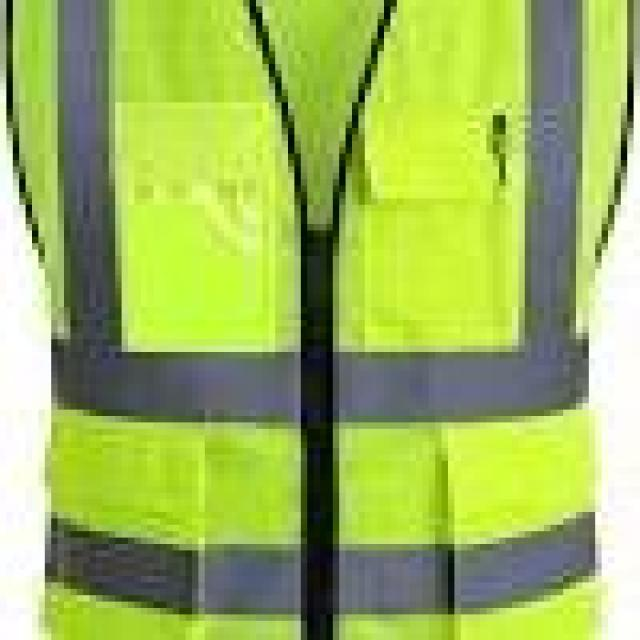Reflective-Jacket: (13, 0, 640, 627)
